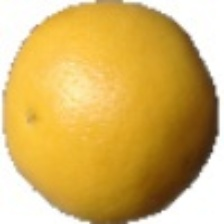grapes: (23, 23, 197, 172)
